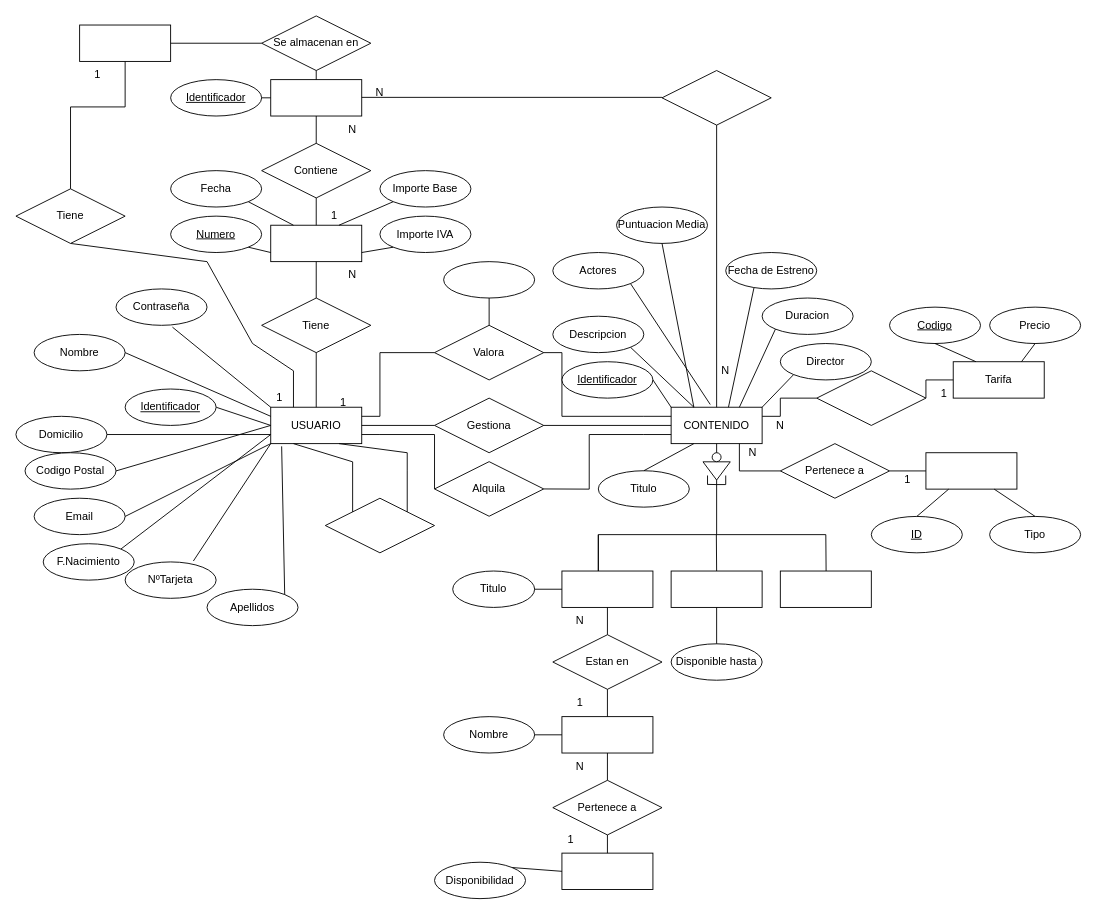
Image size: 1097x915. Some labels were removed from this diagram. The box of each missing label's shape, as (x1, y1, x2, y2) in pixels:
Administra a: (324, 497, 435, 553)
Articulos a Facturar: (661, 70, 771, 125)
CAPITULO: (561, 570, 653, 607)
Carro de Compra: (79, 24, 171, 61)
CORTO: (779, 570, 871, 607)
Factura: (270, 224, 362, 262)
Genero: (925, 452, 1017, 489)
Lineas de Factura: (270, 79, 362, 116)
PELICULA: (670, 570, 762, 607)
Puntos: (443, 261, 535, 298)
SERIE: (561, 852, 653, 890)
TEMPORADA: (561, 716, 653, 753)
Tiene una: (816, 370, 926, 425)
